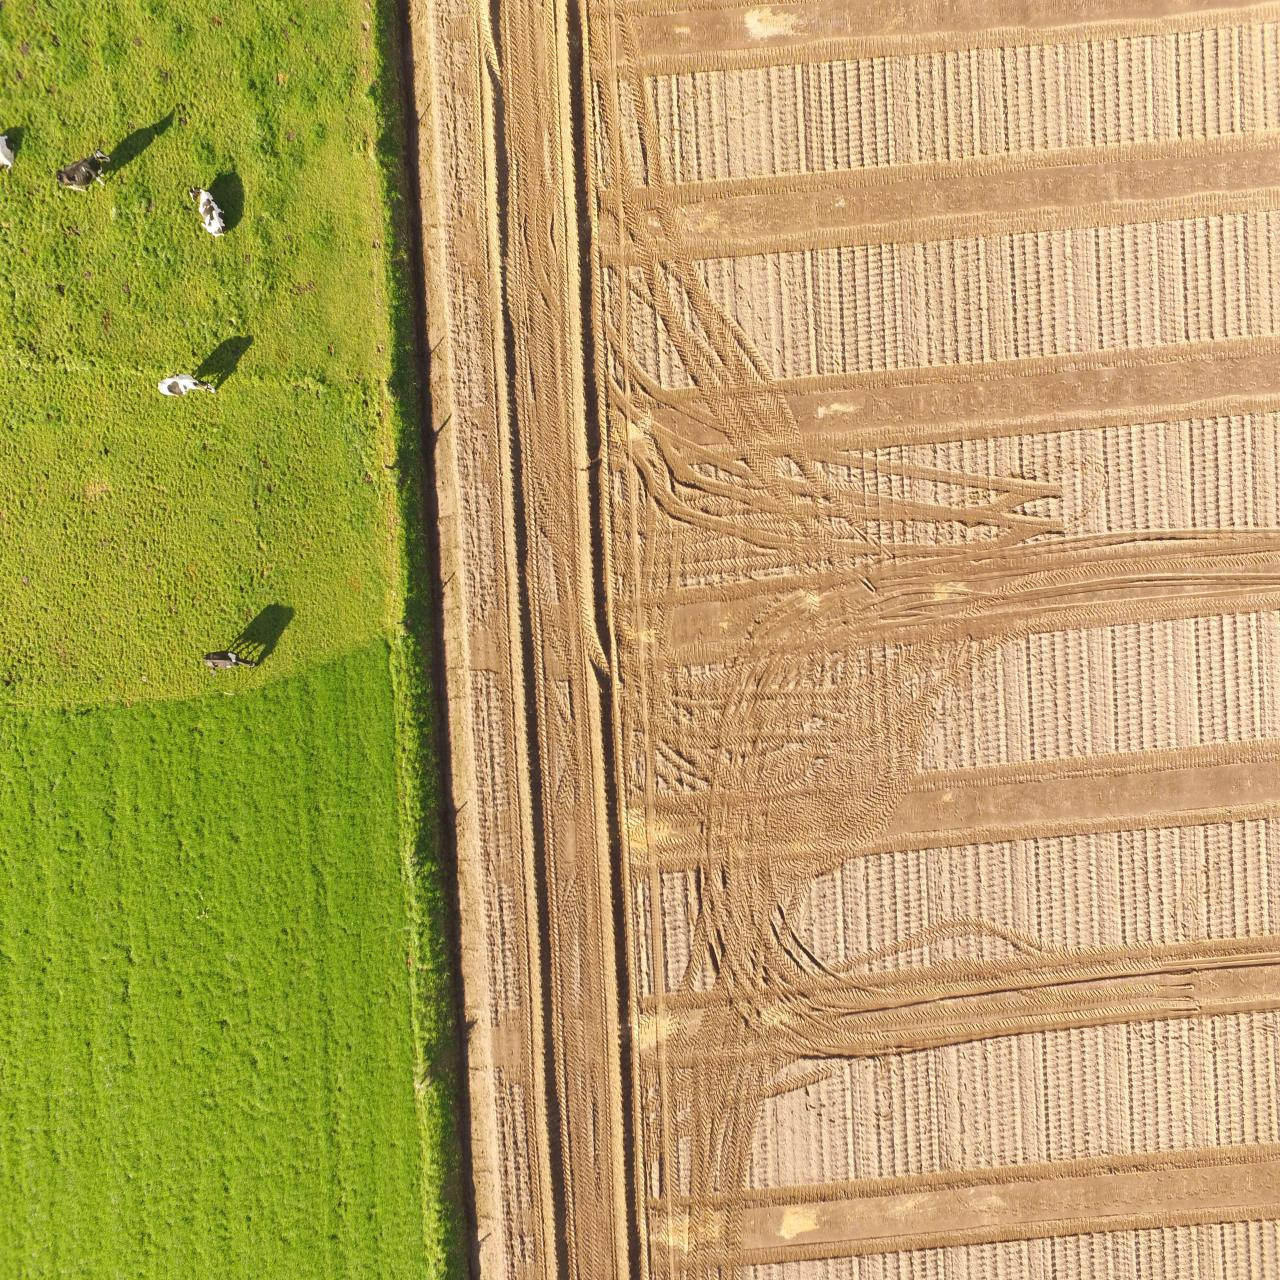cow: (55, 145, 113, 195), (185, 185, 230, 240), (199, 647, 257, 675), (152, 376, 216, 399)
